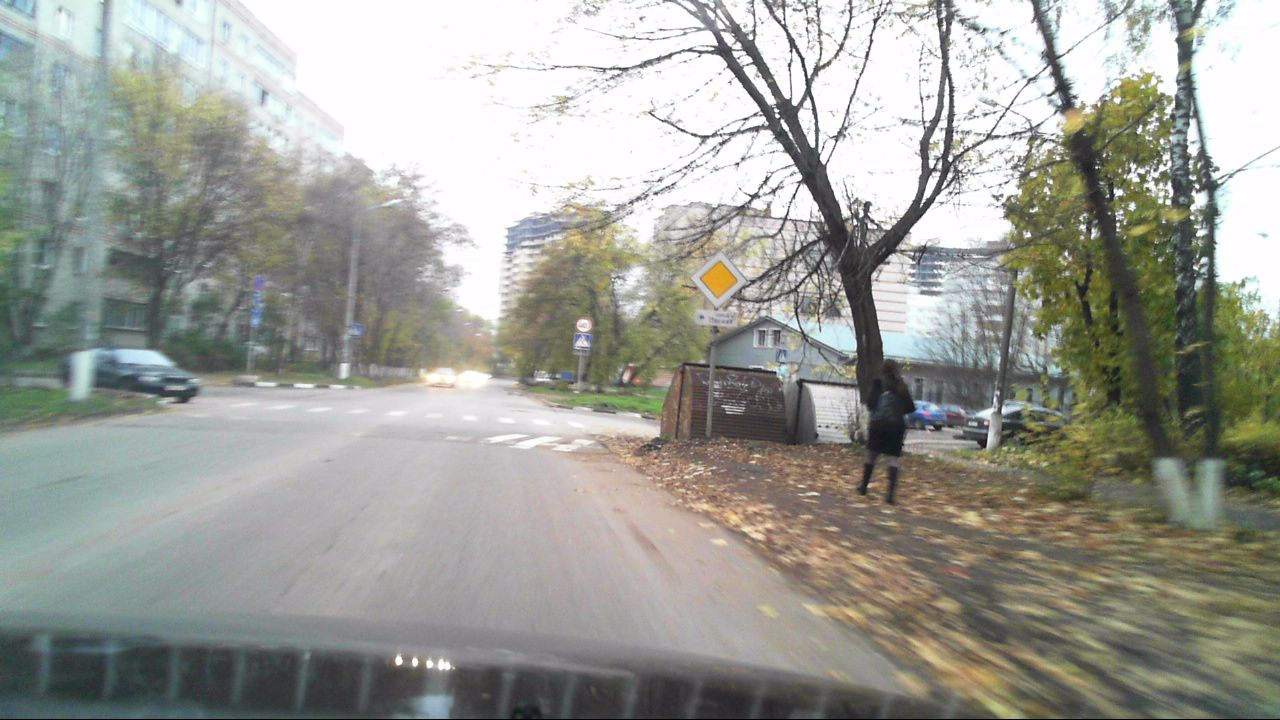speed_warning_40: (575, 316, 592, 332)
